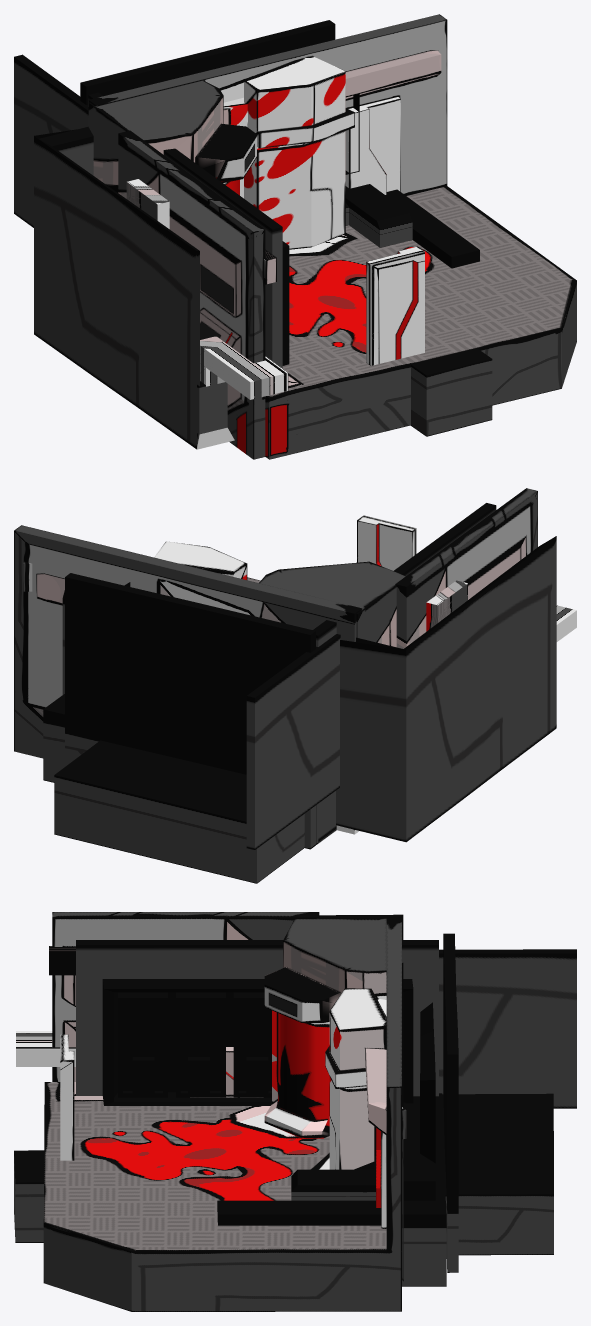
File: Third.fbx
3 renders of one model, top to bottom at view 1: azimuth 30°, elevation 25°; view 2: azimuth 150°, elevation 25°; view 3: azimuth 270°, elevation 25°, orthographic. The views are drawn at different scales.
Visible parts, largest first — view 1: Cube.010, Cube.013, Cube.016, Cube.002; view 2: Cube.013, Cube.002, Cube.016, Cube.010; view 3: Cube.010, Cube.016, Cube.002, Cube.013.
Part boxes in pixels (x1,y1,x2,y2): Cube.010: (88,14,576,459); Cube.013: (34,94,412,449); Cube.016: (80,20,492,436); Cube.002: (14,54,424,365); Cube.013: (62,536,576,842); Cube.002: (54,515,416,883); Cube.016: (43,503,496,849); Cube.010: (14,488,537,834); Cube.010: (43,912,406,1311); Cube.016: (14,933,458,1286); Cube.002: (60,949,576,1255); Cube.013: (16,914,403,1281).
Size of the model in its own units: 693 by 372 by 843.
